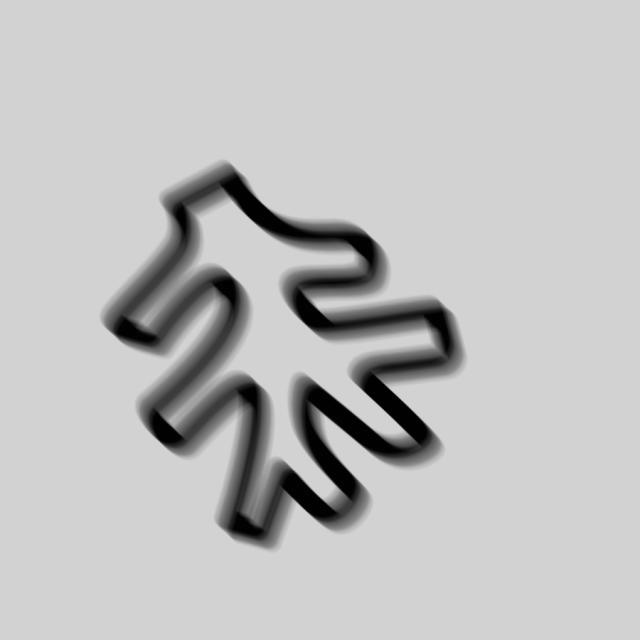coral: (93, 155, 476, 559)
